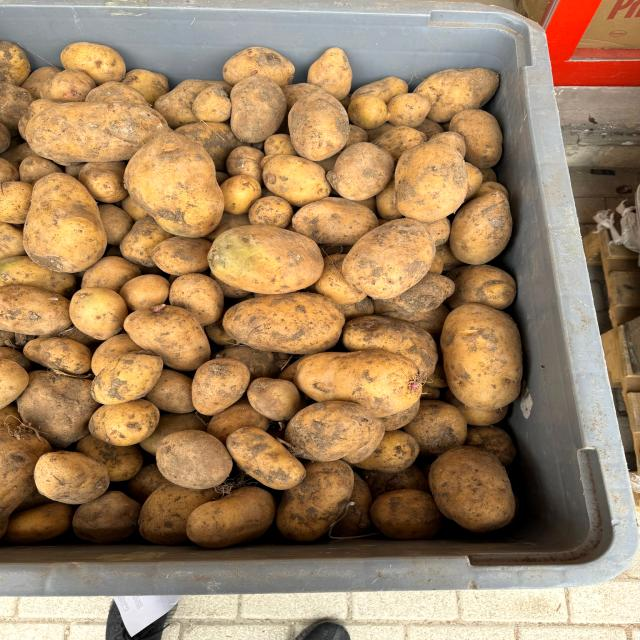potato: (8, 166, 135, 279), (421, 290, 536, 412), (115, 128, 235, 241), (202, 213, 330, 302), (205, 282, 358, 356), (338, 203, 444, 304), (416, 436, 516, 536), (142, 418, 235, 493)
